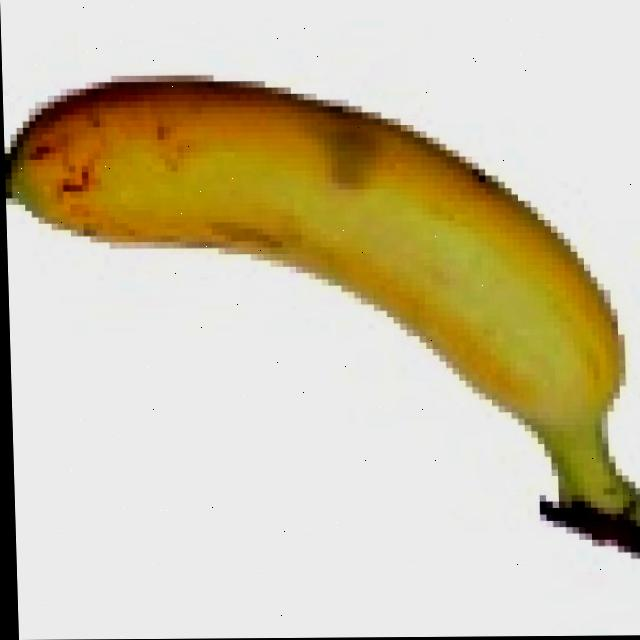banana: (2, 65, 640, 558)
